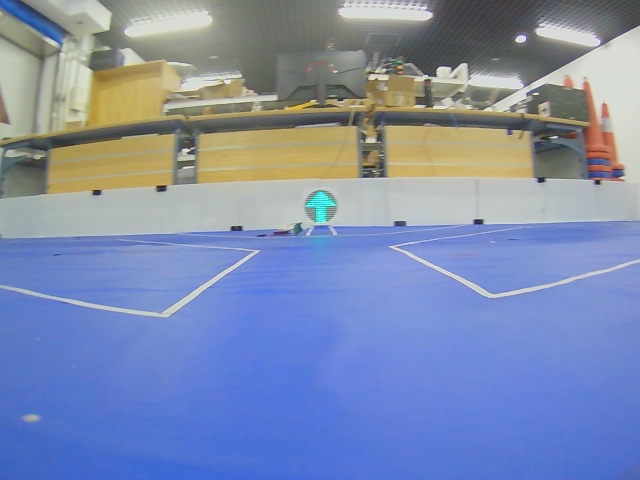straight_green: (305, 190, 338, 224)
